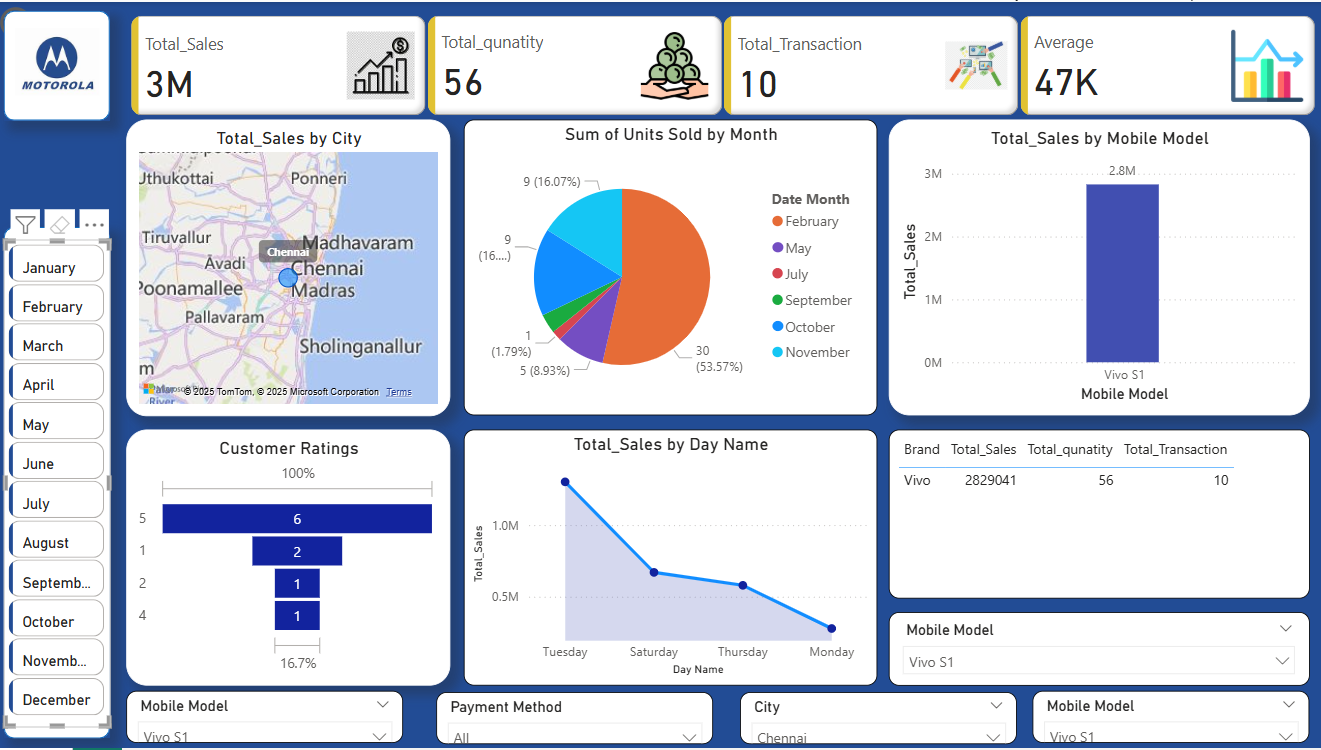

This screenshot's page, from the dashboard's own definition file:
{"tool":"powerbi","page":{"name":"DashBoard","canvas":[1280,720],"ordinal":0},"visuals":[{"type":"actionButton","box":[0,0,100,40],"z":0},{"type":"shape","box":[8.4,8.4,102.5,106.2],"z":1000},{"type":"image","box":[14.5,8.4,91.7,97.7],"z":2000},{"type":"shape","box":[8.4,217.2,102.5,493.4],"z":3000},{"type":"advancedSlicerVisual","fields":{"Values":["Sales_data.Date.Variation.Date Hierarchy.Month"]},"box":[8.4,229.2,102.5,470.5],"z":4000},{"type":"cardVisual","fields":{"Data":["Sales_data.Total_Sales","Sales_data.Total_qunatity","Sales_data.Total_Transaction","Sales_data.Average"]},"box":[126.7,8.4,1153.4,106.2],"z":5000},{"type":"map","fields":{"Category":["Sales_data.City"],"Size":["Sales_data.Total_Sales"]},"box":[126.2,113.9,312.9,286.8],"z":6000},{"type":"pieChart","fields":{"Category":["Sales_data.Date.Variation.Date Hierarchy.Month","Sales_data.Date.Variation.Date Hierarchy.Day"],"Y":["Sum(Sales_data.Units Sold)"]},"box":[452.8,113.9,399.3,285.4],"z":7000},{"type":"clusteredColumnChart","fields":{"Category":["Sales_data.Mobile Model"],"Y":["Sales_data.Total_Sales"]},"box":[863.1,113.9,406.2,285.4],"z":8000},{"type":"funnel","title":" Customer Ratings","fields":{"Category":["Sales_data.Customer Ratings","Sales_data.Mobile Model"],"Y":["CountNonNull(Sales_data.Customer Ratings)"]},"box":[126.2,413,312.9,247],"z":9000},{"type":"areaChart","fields":{"Category":["Sales_data.Day Name"],"Y":["Sales_data.Total_Sales"]},"box":[453,413,399,247],"z":10000},{"type":"tableEx","fields":{"Values":["Sales_data.Brand","Sales_data.Total_Sales","Sales_data.Total_qunatity","Sales_data.Total_Transaction"]},"box":[863.1,413,406.2,163.3],"z":11000},{"type":"slicer","fields":{"Values":["Sales_data.Mobile Model"]},"box":[863.1,588.7,406.2,71.4],"z":12000},{"type":"slicer","fields":{"Values":["Sales_data.Mobile Model"]},"box":[126.2,664.2,267.6,50.8],"z":13000},{"type":"slicer","fields":{"Values":["Sales_data.City"]},"box":[719,665.5,267.6,50.8],"z":14000},{"type":"slicer","fields":{"Values":["Sales_data.Payment Method"]},"box":[425.4,665.5,267.6,50.8],"z":15000},{"type":"slicer","fields":{"Values":["Sales_data.Mobile Model"]},"box":[1001.7,664.2,267.6,50.8],"z":16000}]}

Visuals, with their boxes in screenshot pixels (x1, y1, x2, y2), scaled from the page's 1280x720 canvas onto the 1321x750 screenshot:
actionButton: BBox(0, 0, 103, 42)
shape: BBox(9, 9, 114, 119)
image: BBox(15, 9, 110, 111)
shape: BBox(9, 226, 114, 740)
advancedSlicerVisual - Sales_data.Date.Variation.Date Hierarchy.Month: BBox(9, 239, 114, 729)
cardVisual - Sales_data.Total_Sales x Sales_data.Total_qunatity: BBox(131, 9, 1320, 119)
map - Sales_data.City x Sales_data.Total_Sales: BBox(130, 119, 453, 417)
pieChart - Sales_data.Date.Variation.Date Hierarchy.Month x Sales_data.Date.Variation.Date Hierarchy.Day: BBox(467, 119, 879, 416)
clusteredColumnChart - Sales_data.Mobile Model x Sales_data.Total_Sales: BBox(891, 119, 1310, 416)
" Customer Ratings" funnel: BBox(130, 430, 453, 688)
areaChart - Sales_data.Day Name x Sales_data.Total_Sales: BBox(468, 430, 879, 688)
tableEx - Sales_data.Brand x Sales_data.Total_Sales: BBox(891, 430, 1310, 600)
slicer - Sales_data.Mobile Model: BBox(891, 613, 1310, 688)
slicer - Sales_data.Mobile Model: BBox(130, 692, 406, 745)
slicer - Sales_data.City: BBox(742, 693, 1018, 746)
slicer - Sales_data.Payment Method: BBox(439, 693, 715, 746)
slicer - Sales_data.Mobile Model: BBox(1034, 692, 1310, 745)
